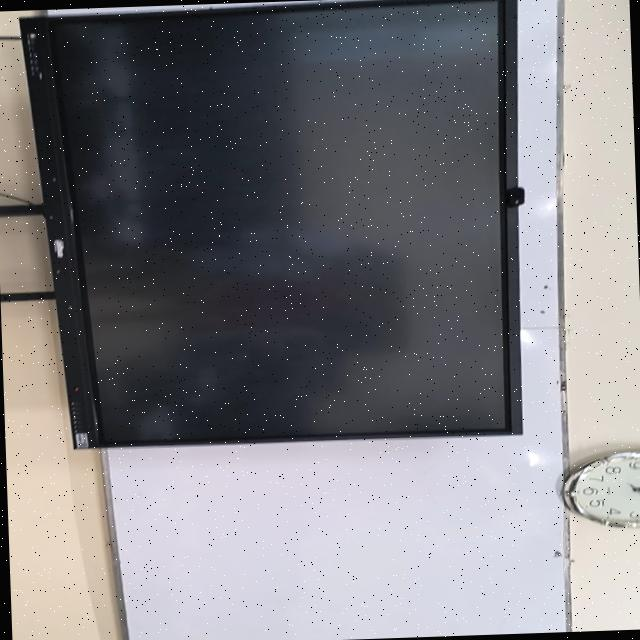Digital board: (20, 0, 516, 447)
